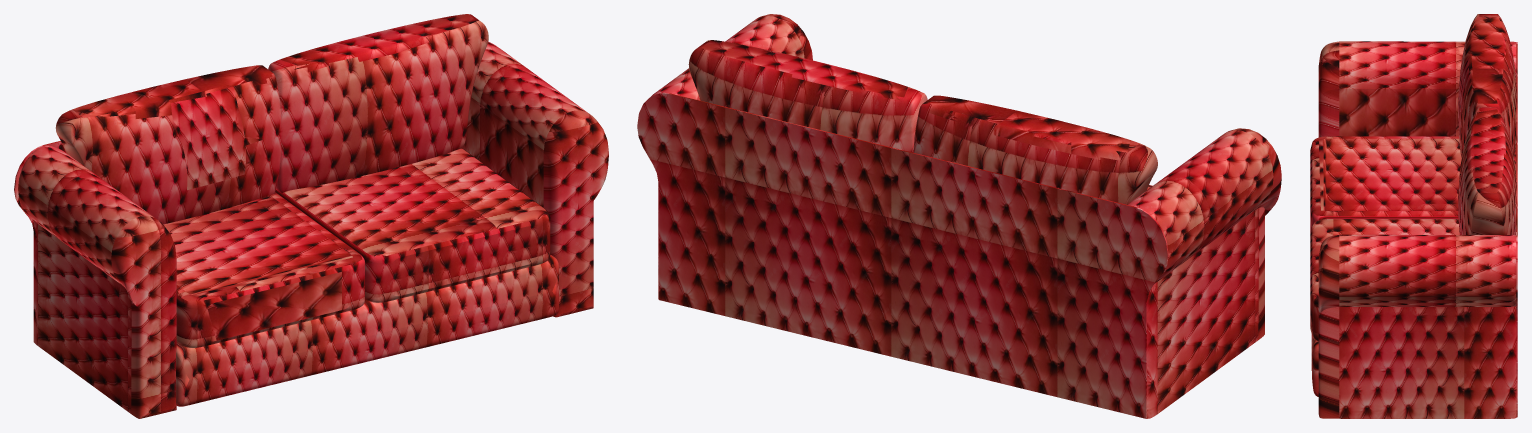
The model's file is sofa11.glb.
3 views of the same model, side by side, from view 1: azimuth 30°, elevation 25°; view 2: azimuth 150°, elevation 25°; view 3: azimuth 270°, elevation 25° (orthographic). The views are drawn at different scales.
Parts seen in each view (by area): view 1: sofa4; view 2: sofa4; view 3: sofa4.
Part boxes in pixels (x1,y1,x2,y2): sofa4: [14, 14, 608, 418]; sofa4: [637, 14, 1281, 418]; sofa4: [1310, 14, 1517, 418].
Size of the model in its own units: 5.46 by 2.47 by 2.19.
1 material, 1 textured.
